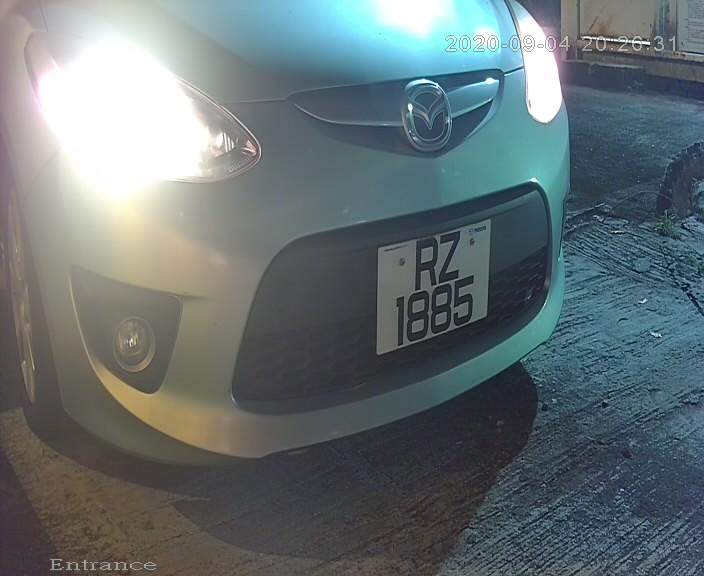License Plate: (357, 200, 500, 376)
